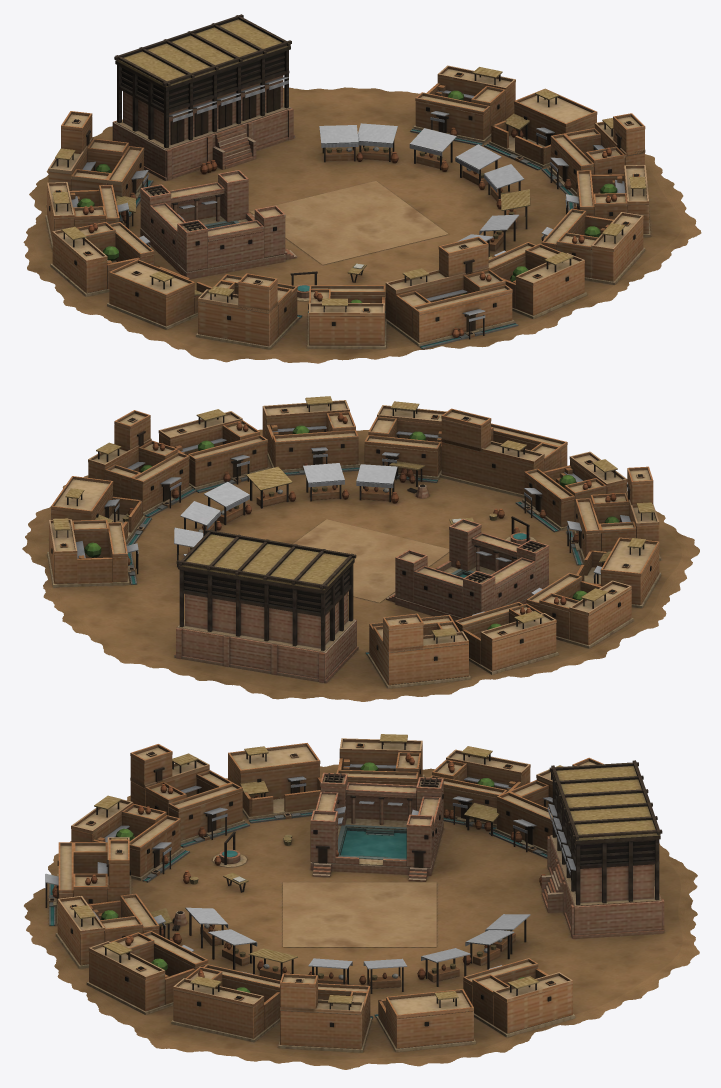
File: bronze-town-medium-b-indic.glb
3 renders of one model, top to bottom at view 1: azimuth 30°, elevation 25°; view 2: azimuth 150°, elevation 25°; view 3: azimuth 270°, elevation 25°, orthographic. The views are drawn at different scales.
Visible parts, largest first — view 1: LOD0; view 2: LOD0; view 3: LOD0.
Part boxes in pixels (x1=…): LOD0: x1=23, y1=14, x2=701, y2=363; LOD0: x1=22, y1=396, x2=699, y2=701; LOD0: x1=24, y1=734, x2=699, y2=1069.
Size of what is drawn, in the model's own units: 5.92 by 0.9312 by 5.6.
Materials: 3 (3 with a texture image).
